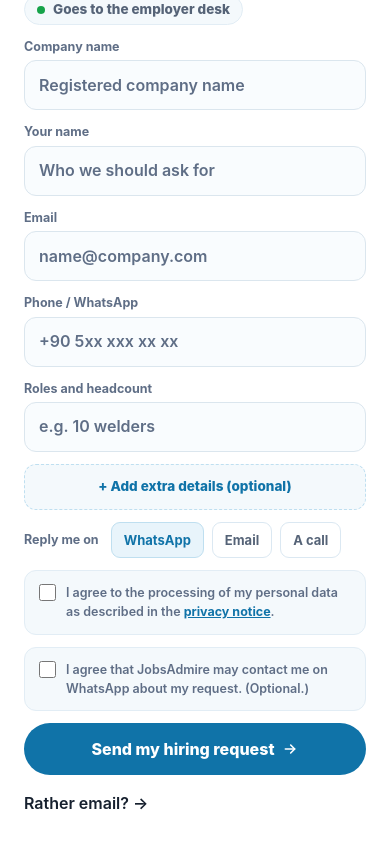
ContactEnquiry › the ≤ 700 px "+ Add extra details" toggle controls the two optional wrappers
The image size is (390, 844).
(page scrolled)
Click the button "+ Add extra details (optional)": (195, 487) 24,464 -> 366,510
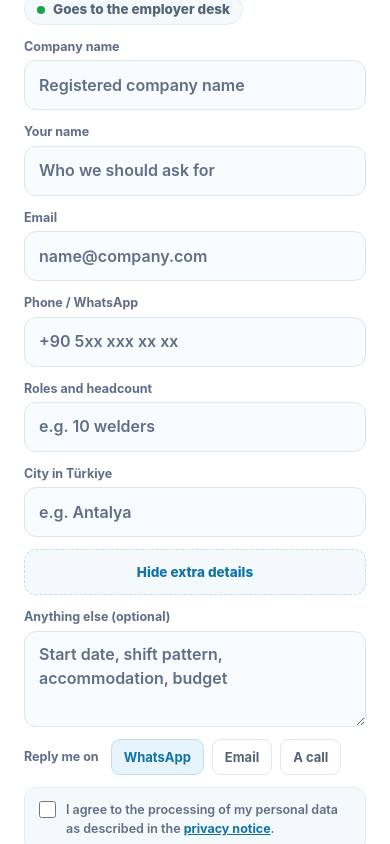
Now the button "Hide extra details" is expanded, box 24,549 -> 366,595
